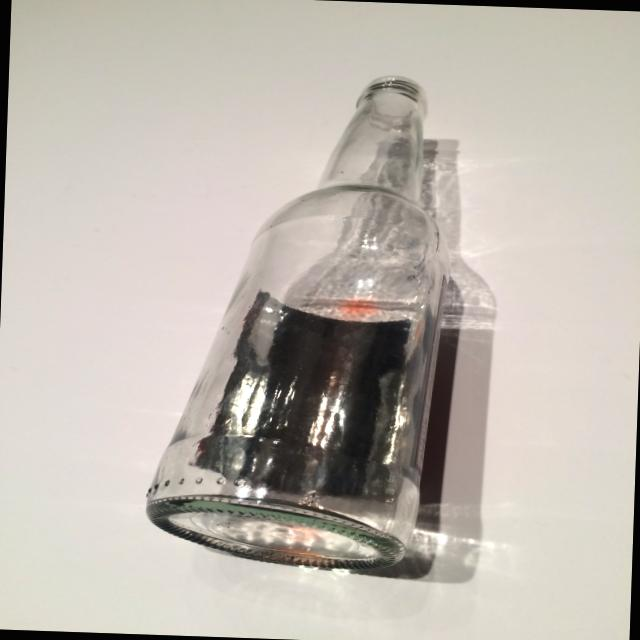Glass: (131, 63, 467, 582)
